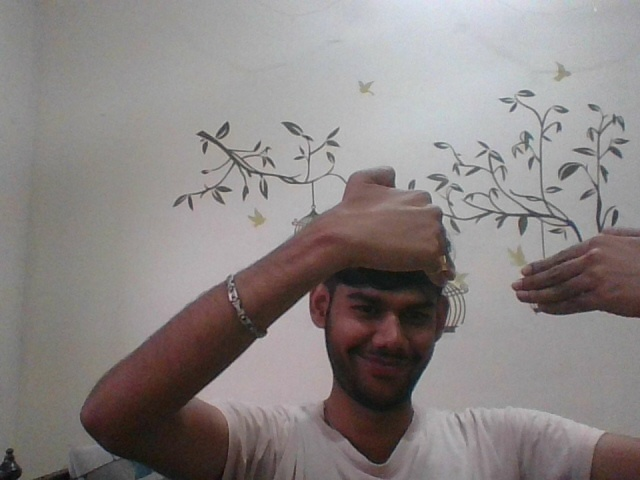I am Utkarsh: (322, 156, 638, 335)
